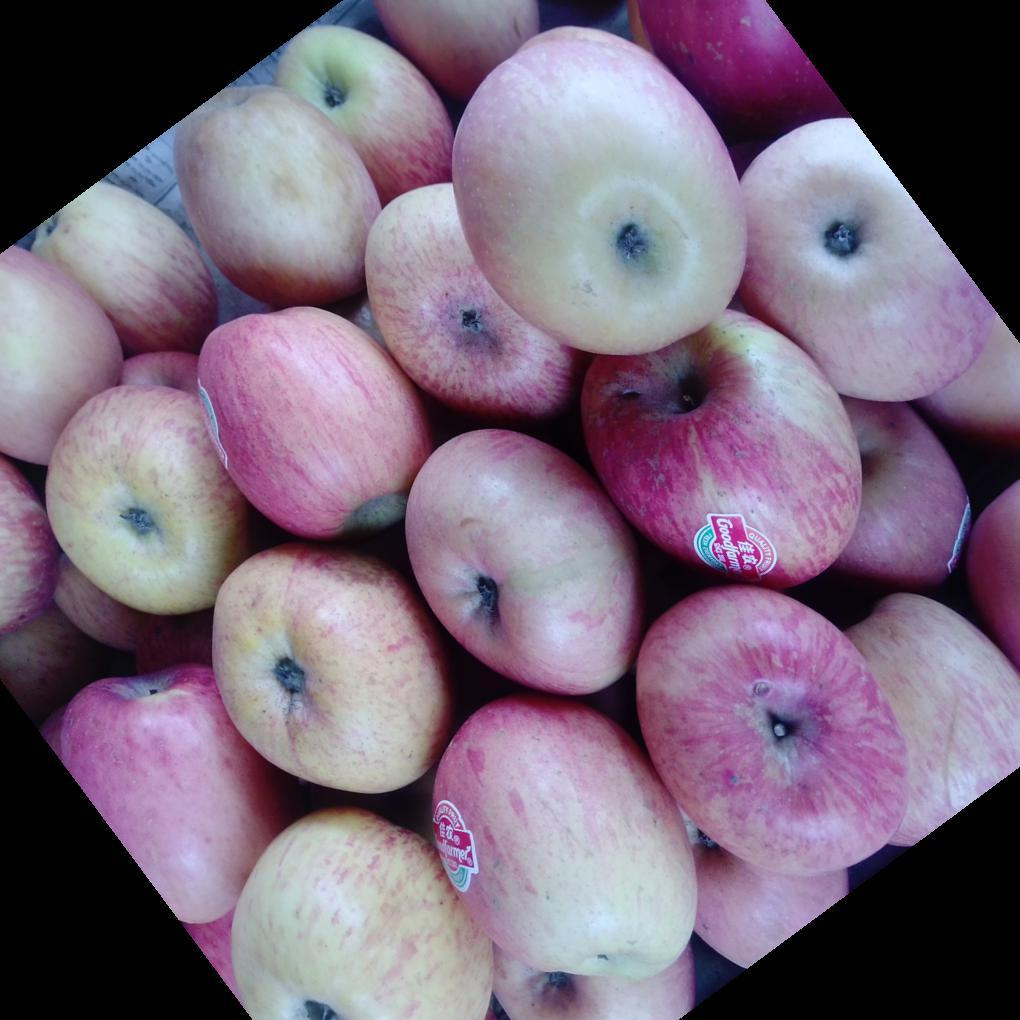FreshGuava: (18, 36, 1020, 1020)
